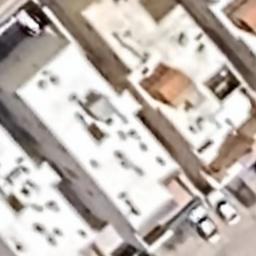SUV: (210, 190, 244, 227)
pickup: (190, 212, 222, 244)
